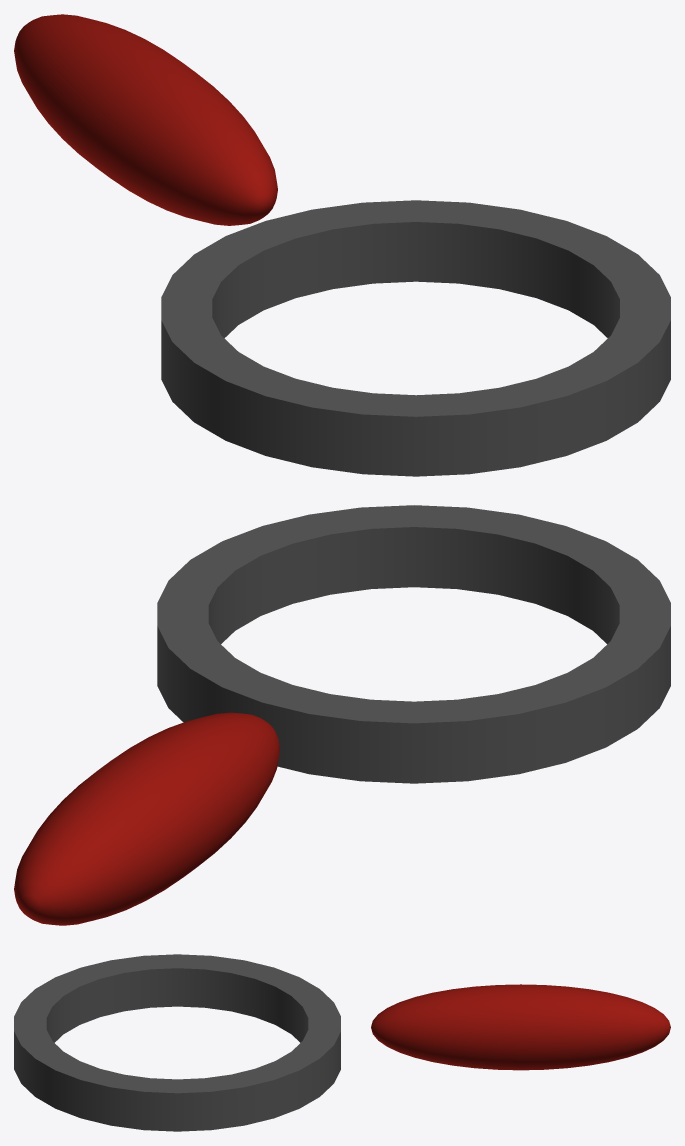
File: WatchGuard Magnify Glass.fbx
The picture shows the model from 3 angles, top to bottom: view 1: azimuth 30°, elevation 25°; view 2: azimuth 150°, elevation 25°; view 3: azimuth 270°, elevation 25°; orthographic projection. The views are drawn at different scales.
Visible parts, largest first — view 1: pPipe2; view 2: pPipe2; view 3: pPipe2.
Part boxes in pixels (bbox=[...]): pPipe2: bbox=[14, 14, 670, 476]; pPipe2: bbox=[14, 505, 670, 925]; pPipe2: bbox=[14, 954, 670, 1131].
Bounding box in the file's own units: 53.15 × 13.87 × 106.
